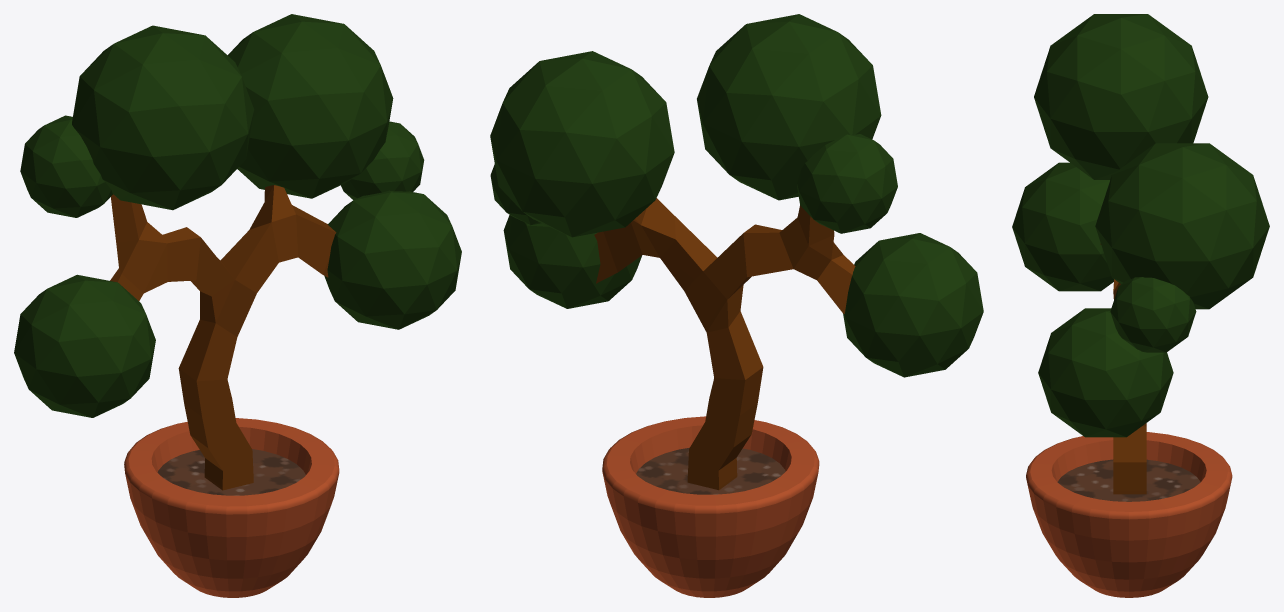
File: plant textured.fbx
3 views of the same model, side by side, from view 1: azimuth 30°, elevation 25°; view 2: azimuth 150°, elevation 25°; view 3: azimuth 270°, elevation 25° (orthographic). The views are drawn at different scales.
Parts seen in each view (by area): view 1: Pot.001, leaves, Cube.042, Icosphere.003, Icosphere.005, Icosphere.002, Icosphere, Icosphere.004; view 2: Pot.001, Icosphere.003, leaves, Cube.042, Icosphere.005, Icosphere, Icosphere.002, Icosphere.004; view 3: Pot.001, Icosphere.003, leaves, Icosphere.002, Icosphere.005, Icosphere.004, Cube.042.
Boxes of the visible parts, x1=… form: Pot.001: x1=124, y1=418, x2=339, y2=597; leaves: x1=72, y1=25, x2=254, y2=210; Cube.042: x1=110, y1=185, x2=336, y2=490; Icosphere.003: x1=227, y1=14, x2=393, y2=198; Icosphere.005: x1=14, y1=274, x2=155, y2=417; Icosphere.002: x1=324, y1=190, x2=461, y2=329; Icosphere: x1=20, y1=115, x2=112, y2=217; Icosphere.004: x1=341, y1=121, x2=424, y2=200; Pot.001: x1=602, y1=416, x2=819, y2=597; Icosphere.003: x1=490, y1=51, x2=674, y2=237; leaves: x1=697, y1=14, x2=881, y2=200; Cube.042: x1=594, y1=198, x2=855, y2=490; Icosphere.005: x1=843, y1=233, x2=983, y2=377; Icosphere: x1=797, y1=134, x2=897, y2=233; Icosphere.002: x1=503, y1=215, x2=641, y2=308; Icosphere.004: x1=490, y1=164, x2=541, y2=224; Pot.001: x1=1026, y1=432, x2=1232, y2=597; Icosphere.003: x1=1095, y1=143, x2=1269, y2=309; leaves: x1=1034, y1=14, x2=1208, y2=179; Icosphere.002: x1=1038, y1=308, x2=1173, y2=437; Icosphere.005: x1=1012, y1=162, x2=1113, y2=291; Icosphere.004: x1=1110, y1=277, x2=1196, y2=352; Cube.042: x1=1100, y1=243, x2=1146, y2=494.
Bounding box in the file's own units: 394 × 494 × 214.
